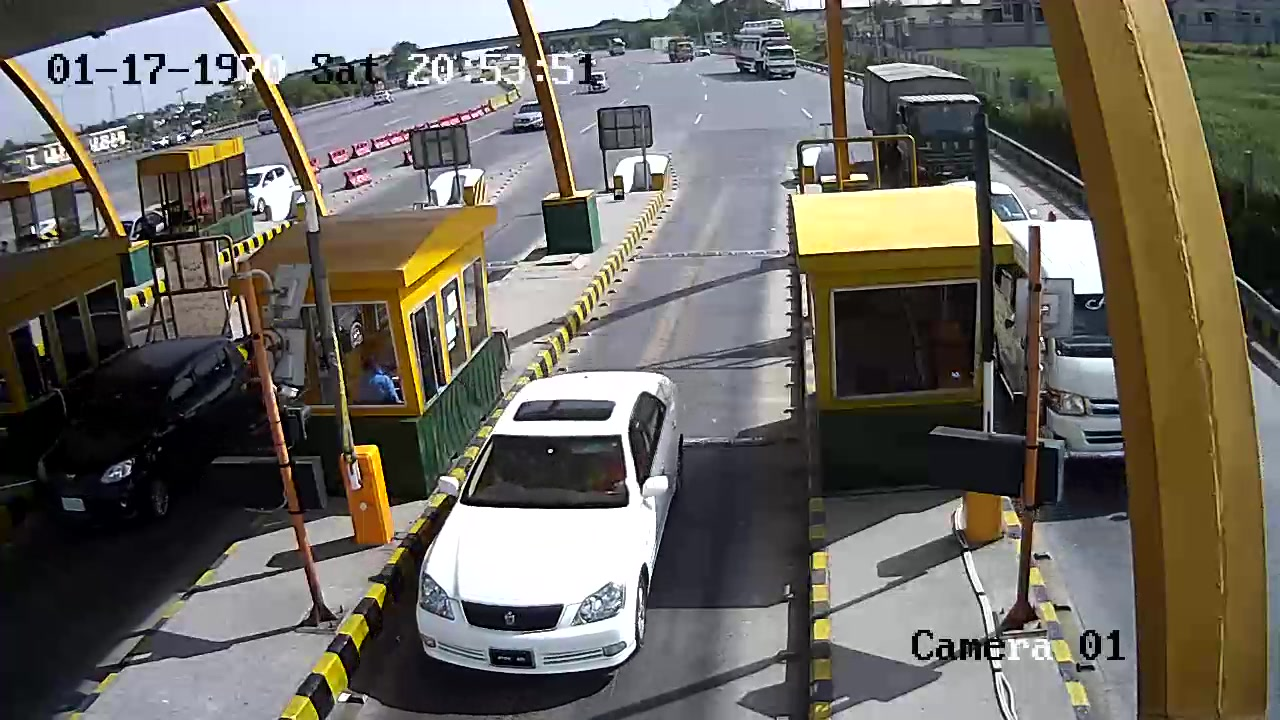F1: (415, 362, 698, 672)
